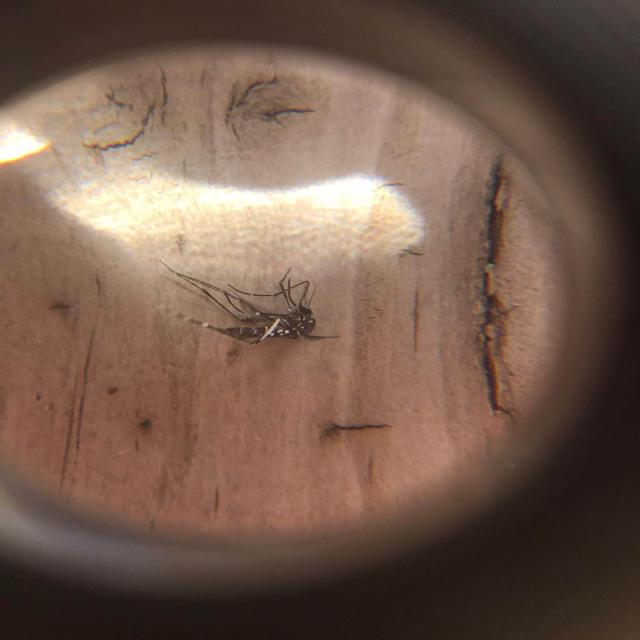albopictus: (148, 252, 344, 352)
